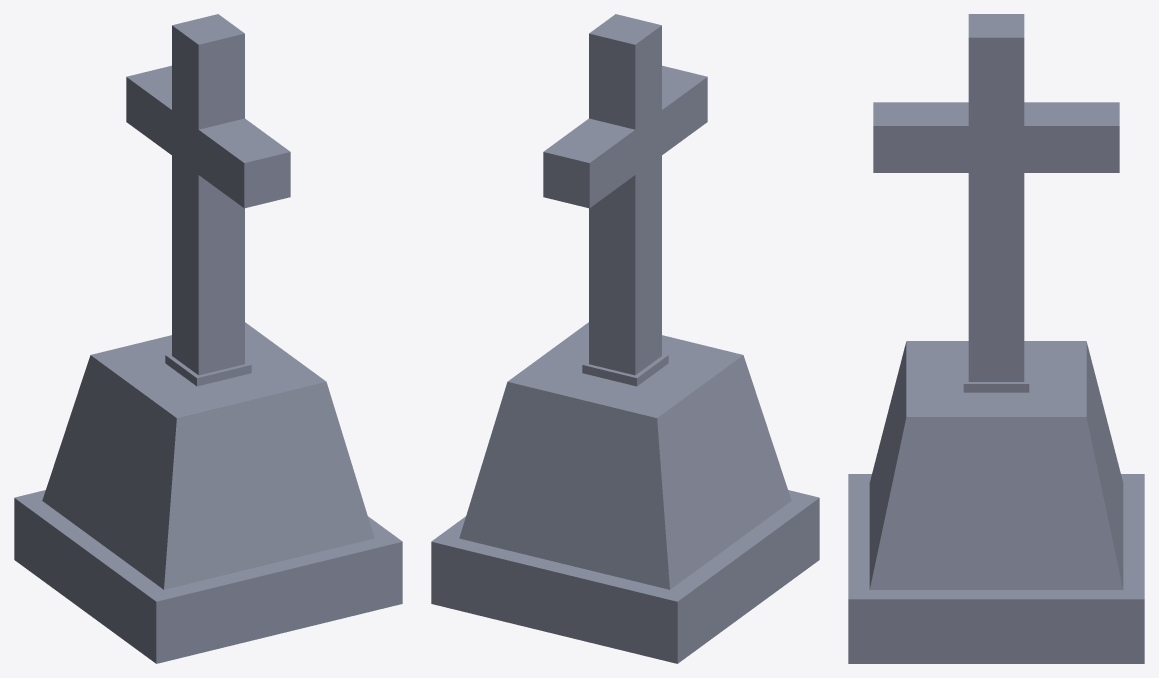
File: US5Tomb.fbx
3 views of the same model, side by side, from view 1: azimuth 30°, elevation 25°; view 2: azimuth 150°, elevation 25°; view 3: azimuth 270°, elevation 25° (orthographic). The views are drawn at different scales.
Parts seen in each view (by area): view 1: US5Tomb; view 2: US5Tomb; view 3: US5Tomb.
Part boxes in pixels (box(x1,y1,x2,y2)): US5Tomb: box(14, 14, 402, 663); US5Tomb: box(431, 14, 819, 663); US5Tomb: box(848, 14, 1144, 663).
Size of the model in its own units: 200 by 428 by 200.
